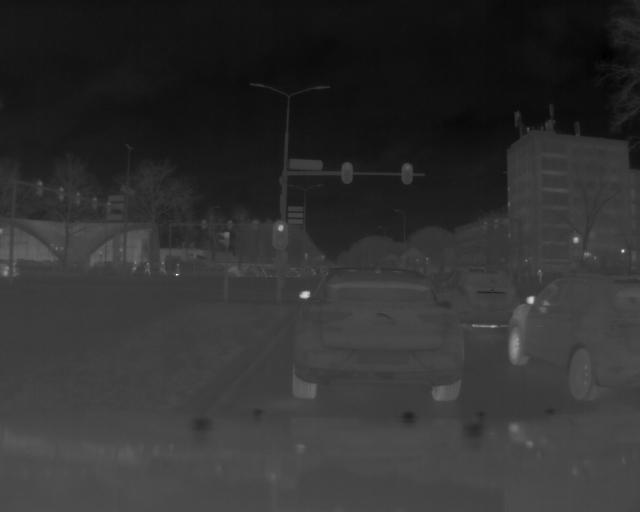car: (289, 265, 467, 402), (504, 271, 640, 409), (437, 267, 523, 335)
person: (158, 258, 167, 277), (143, 261, 151, 277), (174, 262, 181, 278)
